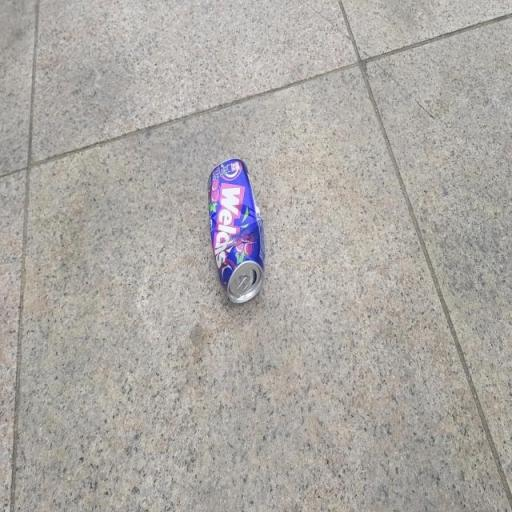metal: (196, 140, 278, 310)
